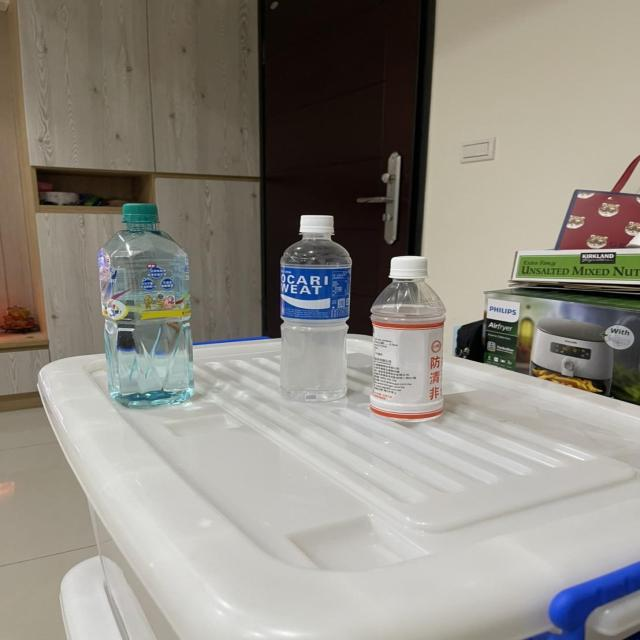bottle: (92, 194, 200, 417), (269, 211, 358, 408), (364, 251, 454, 426)
